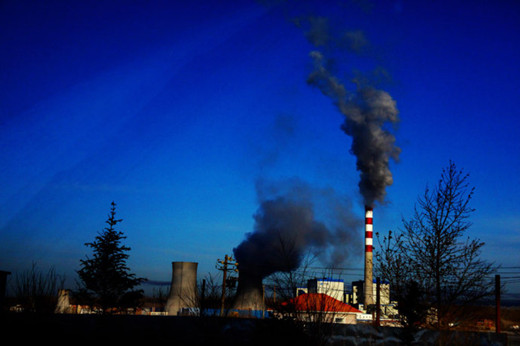dust: (315, 94, 421, 218), (210, 196, 339, 275)
